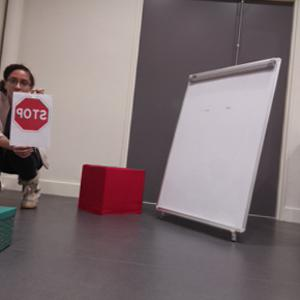stop: (14, 96, 49, 132)
